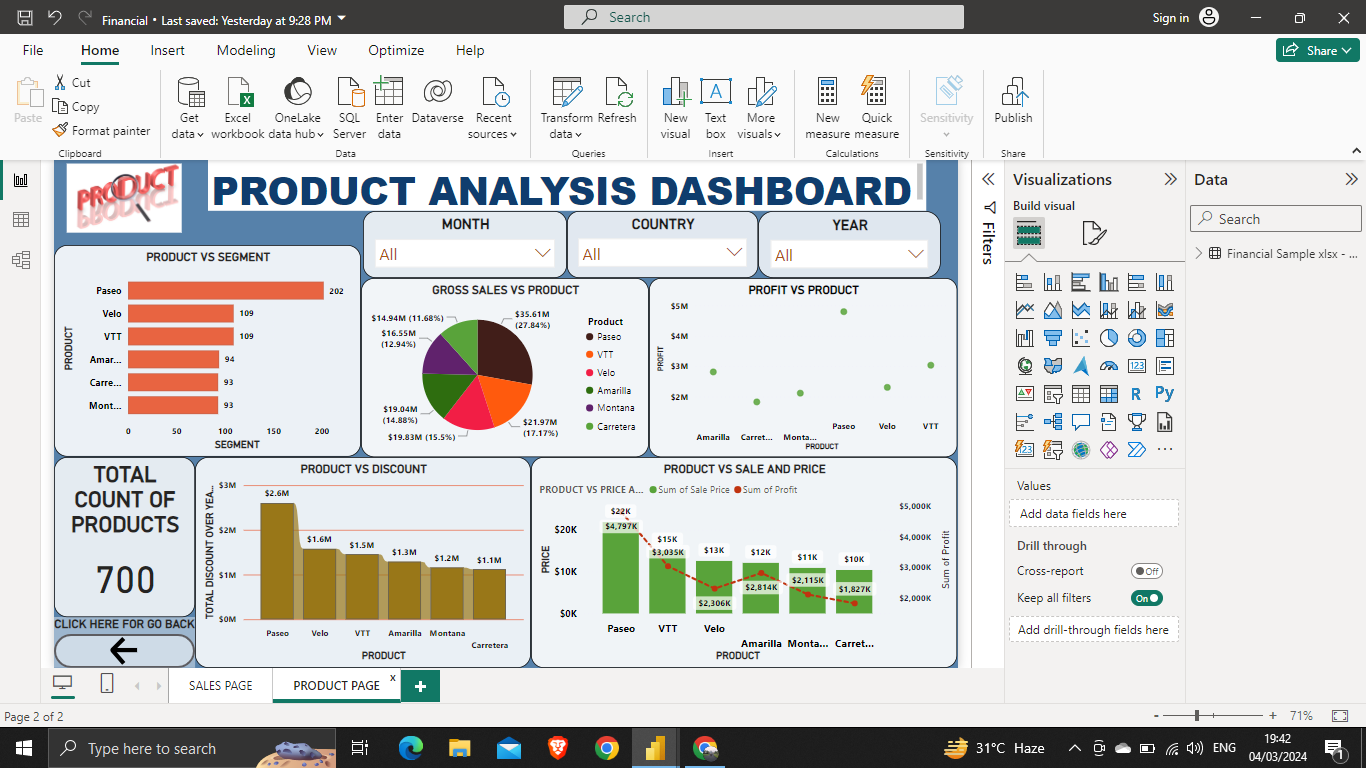

Layout of this report page (visuals, bound fields, positions):
{"tool":"powerbi","page":{"name":"PRODUCT PAGE","canvas":[1280,720],"ordinal":1},"visuals":[{"type":"scatterChart","title":"PROFIT VS PRODUCT","fields":{"X":["Financial Sample xlsx - Sheet1. Product "],"Y":["Sum(Financial Sample xlsx - Sheet1.Profit)"]},"box":[843.3,167.2,436.5,253.7],"z":0},{"type":"lineClusteredColumnComboChart","title":"PRODUCT VS SALE AND PRICE","fields":{"Category":["Financial Sample xlsx - Sheet1. Product "],"Y":["Sum(Financial Sample xlsx - Sheet1.Sale Price)"],"Y2":["Sum(Financial Sample xlsx - Sheet1.Profit)"]},"box":[676.1,420.9,603.8,299.1],"z":1000},{"type":"pieChart","title":"GROSS SALES VS  PRODUCT","fields":{"Category":["Financial Sample xlsx - Sheet1. Product "],"Y":["Sum(Financial Sample xlsx - Sheet1.Gross Sales)"]},"box":[435.1,167.2,408.2,253.7],"z":2000},{"type":"actionButton","title":"CLICK HERE FOR GO BACK","box":[0,647.7,199.8,72.3],"z":3000},{"type":"clusteredBarChart","title":"PRODUCT VS SEGMENT ","fields":{"Y":["CountNonNull(Financial Sample xlsx - Sheet1.Segment)"],"Category":["Financial Sample xlsx - Sheet1. Product "]},"box":[0,120.5,435.1,300.5],"z":4000},{"type":"textbox","box":[218.3,0,1017.6,72.3],"z":5000},{"type":"columnChart","title":"PRODUCT VS DISCOUNT","fields":{"Category":["Financial Sample xlsx - Sheet1. Product "],"Y":["Sum(Financial Sample xlsx - Sheet1.Discounts)"]},"box":[199.8,420.9,476.2,299.1],"z":6000},{"type":"image","box":[0,0,199.8,107.7],"z":7000},{"type":"card","title":"TOTAL COUNT OF PRODUCTS","fields":{"Values":["CountNonNull(Financial Sample xlsx - Sheet1. Product )"]},"box":[0,420.9,199.8,226.8],"z":8000},{"type":"slicer","title":"YEAR","fields":{"Values":["Financial Sample xlsx - Sheet1.Year"]},"box":[997.8,72.3,259.4,95],"z":8001},{"type":"slicer","title":"MONTH","fields":{"Values":["Financial Sample xlsx - Sheet1. Month Name "]},"box":[438,72.3,289.1,95],"z":8002},{"type":"slicer","title":"COUNTRY","fields":{"Values":["Financial Sample xlsx - Sheet1.Country"]},"box":[727.1,72.3,270.7,95],"z":8003}]}

Visuals, with their boxes on the page's 1280x720 design canvas (x1, y1, x2, y2). These are canvas units, not pixel positions in the 1366x768 screenshot, which may show the page scaled, cropped or inside an application window:
"PROFIT VS PRODUCT" scatterChart: 843:167:1280:421
"PRODUCT VS SALE AND PRICE" lineClusteredColumnComboChart: 676:421:1280:720
"GROSS SALES VS  PRODUCT" pieChart: 435:167:843:421
"CLICK HERE FOR GO BACK" actionButton: 0:648:200:720
"PRODUCT VS SEGMENT " clusteredBarChart: 0:120:435:421
textbox: 218:0:1236:72
"PRODUCT VS DISCOUNT" columnChart: 200:421:676:720
image: 0:0:200:108
"TOTAL COUNT OF PRODUCTS" card: 0:421:200:648
"YEAR" slicer: 998:72:1257:167
"MONTH" slicer: 438:72:727:167
"COUNTRY" slicer: 727:72:998:167
